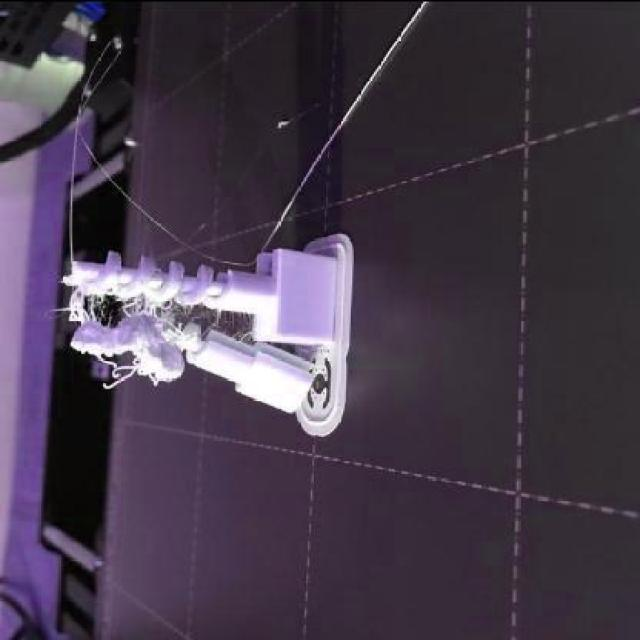Spaghetti: (52, 244, 219, 390)
